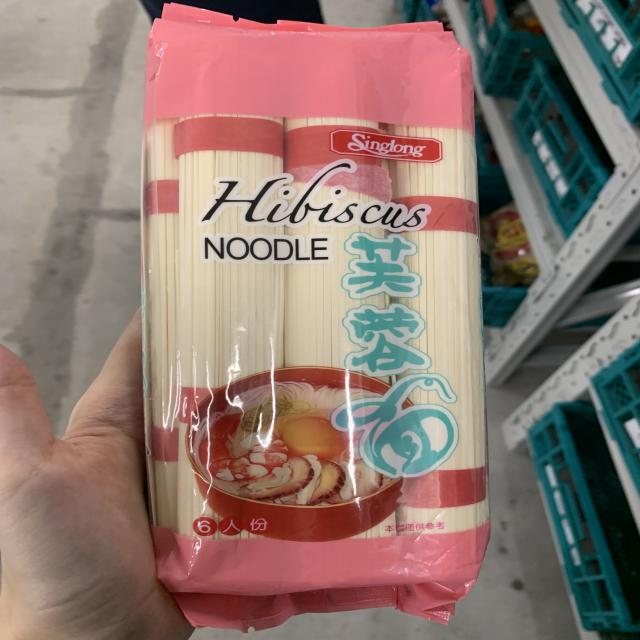object_name: (142, 11, 480, 603)
